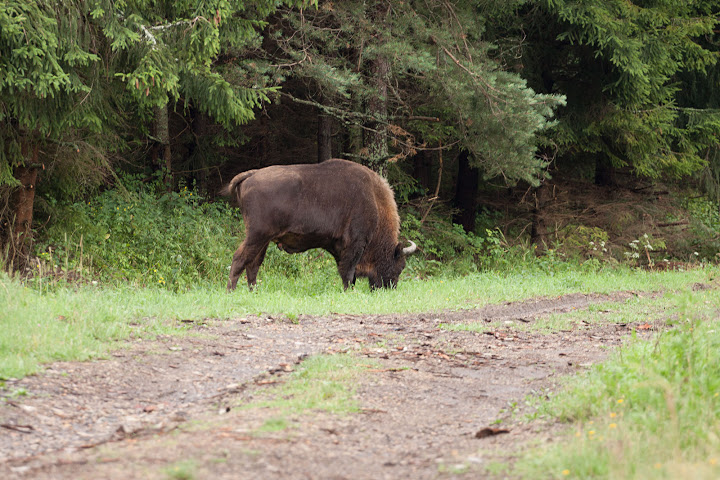zubr: (207, 146, 442, 323)
